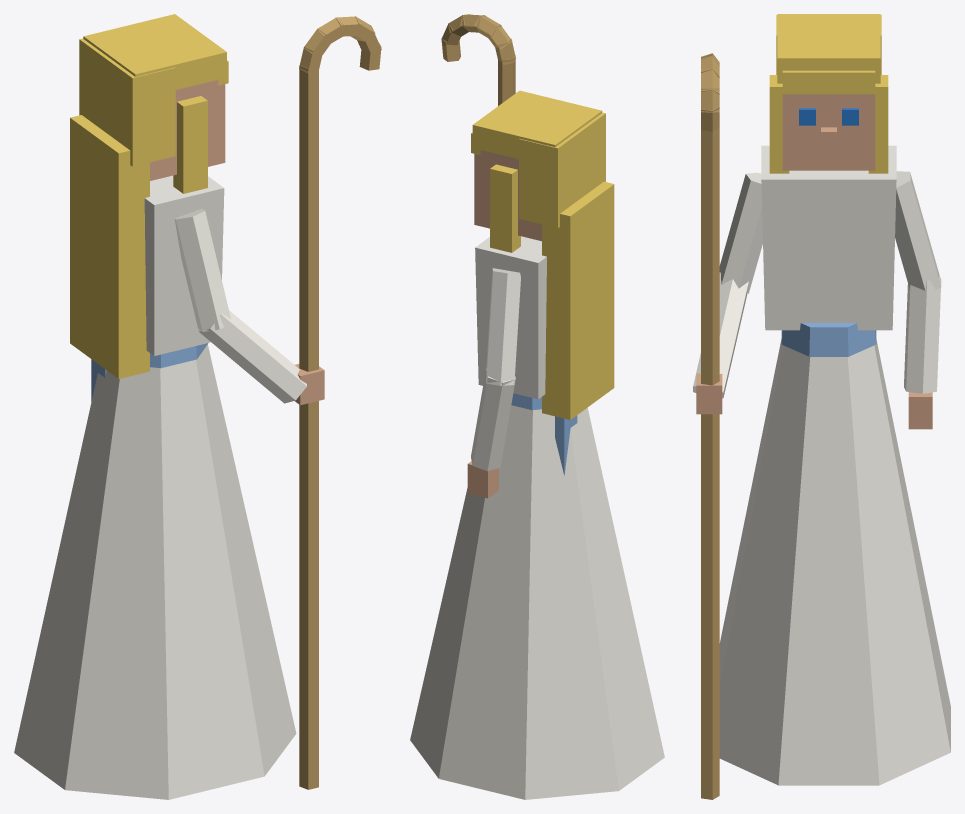
The picture shows the model from 3 angles, left to right: view 1: azimuth 30°, elevation 25°; view 2: azimuth 150°, elevation 25°; view 3: azimuth 270°, elevation 25°; orthographic projection. The views are drawn at different scales.
Parts seen in each view (by area): view 1: Bo_white, Bo_bo_blond, Bo_crook, Bo_skin, Bo_bo_sash; view 2: Bo_white, Bo_bo_blond, Bo_skin, Bo_crook, Bo_bo_sash; view 3: Bo_white, Bo_crook, Bo_bo_blond, Bo_skin, Bo_bo_sash, Bo_eye_blue.
Boxes of the visible parts, x1,y1,x2,y2 form: Bo_white: (14,175,306,799); Bo_bo_blond: (70,14,228,378); Bo_crook: (299,16,381,789); Bo_skin: (150,79,324,405); Bo_bo_sash: (91,343,208,401); Bo_white: (410,236,664,799); Bo_bo_blond: (471,90,614,419); Bo_skin: (467,150,541,498); Bo_crook: (441,14,515,105); Bo_bo_sash: (511,393,577,475); Bo_white: (693,145,950,785); Bo_crook: (701,53,719,799); Bo_bo_blond: (769,14,888,173); Bo_skin: (696,94,932,429); Bo_bo_sash: (781,323,876,356); Bo_eye_blue: (799,108,858,125).
Bounding box in the file's own units: 0.8074 × 2.09 × 0.647.
